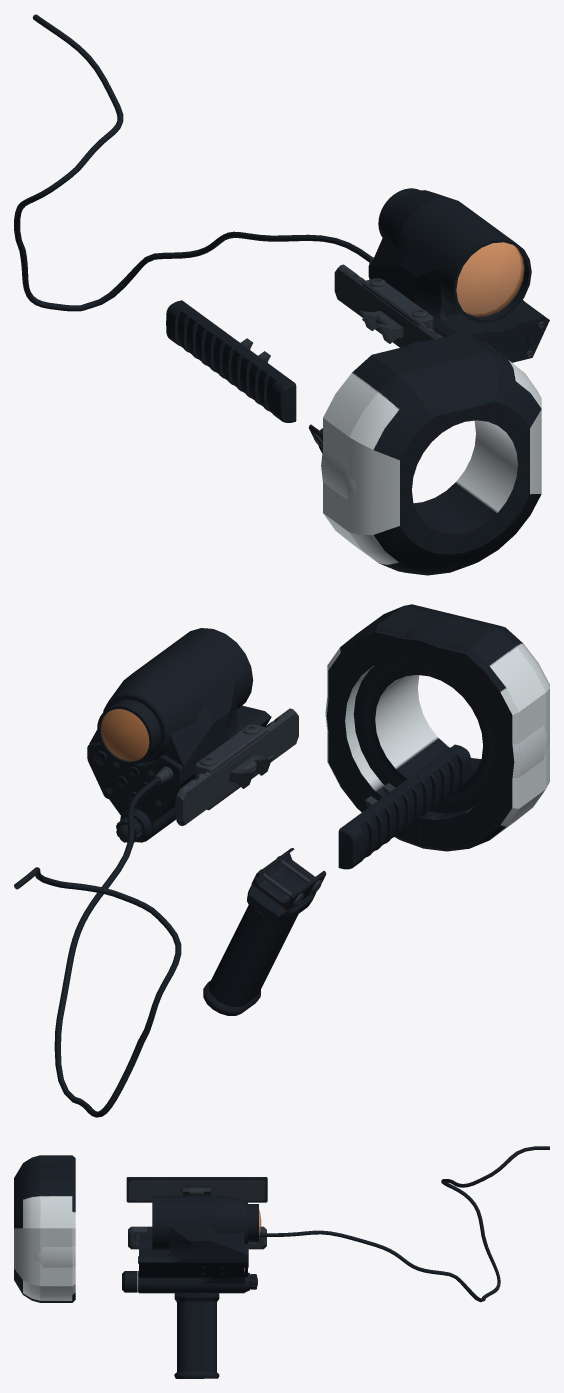
The model's file is RocketLauncher.glb.
The picture shows the model from 3 angles, top to bottom: view 1: azimuth 30°, elevation 25°; view 2: azimuth 150°, elevation 25°; view 3: azimuth 270°, elevation 25°; orthographic projection. The views are drawn at different scales.
Parts seen in each view (by area): view 1: SM_RocketLauncher_Muzzle_Square, SM_RocketLauncher_Scope, SM_RocketLauncher_Rail, SM_RocketLauncher_Muzzle_Round, SM_RocketLauncher_Scope_NoWire; view 2: SM_RocketLauncher_Scope, SM_RocketLauncher_Muzzle_Round, SM_RocketLauncher_Muzzle_Square, SM_RocketLauncher_Rail, SM_RocketLauncher_Grip, SM_RocketLauncher_Scope_NoWire; view 3: SM_RocketLauncher_Scope, SM_RocketLauncher_Muzzle_Square, SM_RocketLauncher_Rail, SM_RocketLauncher_Grip, SM_RocketLauncher_Muzzle_Round.
Boxes of the visible parts, <box> form: SM_RocketLauncher_Muzzle_Square: <box>323,332,541,575</box>; SM_RocketLauncher_Scope: <box>14,14,549,362</box>; SM_RocketLauncher_Rail: <box>166,264,442,422</box>; SM_RocketLauncher_Muzzle_Round: <box>321,339,513,530</box>; SM_RocketLauncher_Scope_NoWire: <box>456,242,524,316</box>; SM_RocketLauncher_Scope: <box>14,628,271,1117</box>; SM_RocketLauncher_Muzzle_Round: <box>325,614,548,839</box>; SM_RocketLauncher_Muzzle_Square: <box>327,604,549,851</box>; SM_RocketLauncher_Rail: <box>175,708,470,869</box>; SM_RocketLauncher_Grip: <box>203,848,326,1015</box>; SM_RocketLauncher_Scope_NoWire: <box>101,709,148,760</box>; SM_RocketLauncher_Scope: <box>122,1146,549,1302</box>; SM_RocketLauncher_Muzzle_Square: <box>14,1155,75,1302</box>; SM_RocketLauncher_Rail: <box>126,1177,267,1249</box>; SM_RocketLauncher_Grip: <box>174,1293,219,1378</box>; SM_RocketLauncher_Muzzle_Round: <box>34,1164,75,1267</box>.
Bounding box in the file's own units: 20.98 × 24.77 × 56.23.
17 materials, 7 textured.
